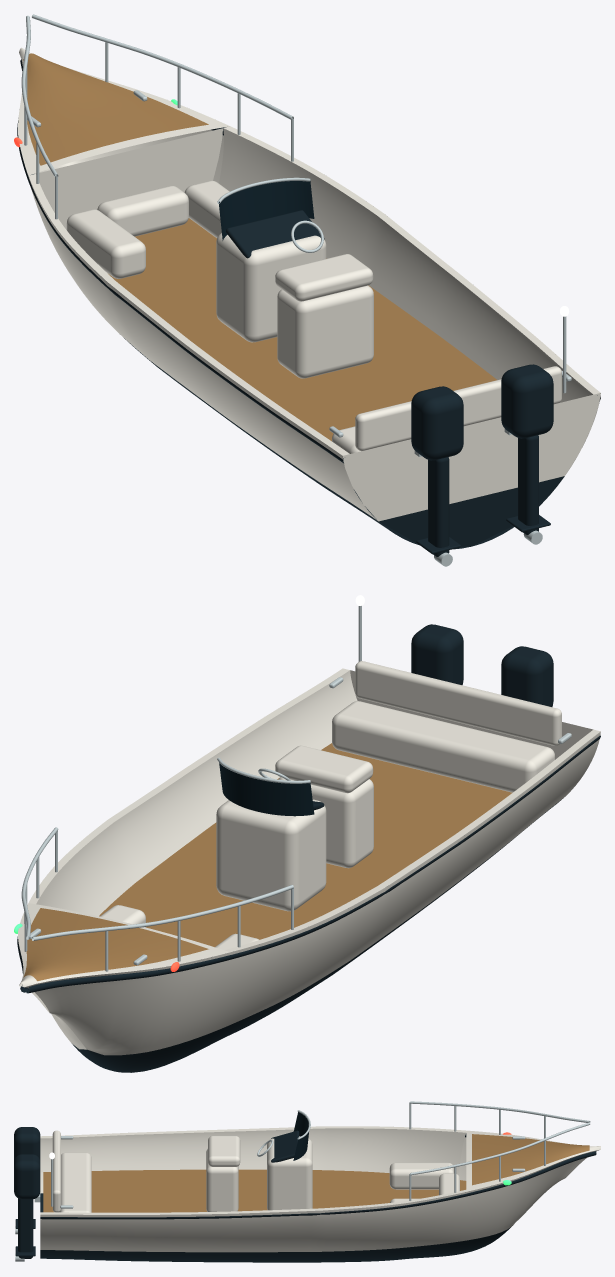
The model's file is tender-high.glb.
3 renders of one model, top to bottom at view 1: azimuth 30°, elevation 25°; view 2: azimuth 150°, elevation 25°; view 3: azimuth 270°, elevation 25°, orthographic. The views are drawn at different scales.
Parts seen in each view (by area): view 1: v4-ivory-gelcoat, v4-teak, v4-navy-boot, v4-stainless, v4-dark-glazing; view 2: v4-ivory-gelcoat, v4-teak, v4-navy-boot, v4-stainless, v4-dark-glazing; view 3: v4-ivory-gelcoat, v4-teak, v4-navy-boot, v4-stainless, v4-dark-glazing.
Part boxes in pixels (box(x1,y1,x2,y2)): v4-ivory-gelcoat: box(18, 47, 600, 521); v4-teak: box(23, 53, 496, 441); v4-navy-boot: box(17, 59, 600, 556); v4-stainless: box(21, 14, 571, 566); v4-dark-glazing: box(218, 180, 314, 240); v4-ivory-gelcoat: box(18, 661, 600, 1055); v4-teak: box(23, 743, 512, 981); v4-navy-boot: box(17, 624, 600, 1072); v4-stainless: box(21, 606, 571, 971); v4-dark-glazing: box(219, 762, 314, 816); v4-ivory-gelcoat: box(40, 1126, 600, 1252); v4-teak: box(43, 1134, 589, 1212); v4-navy-boot: box(14, 1127, 596, 1262); v4-stainless: box(15, 1101, 590, 1261); v4-dark-glazing: box(293, 1112, 308, 1160).
Bounding box in the file's own units: 3.4 × 2.51 × 10.
